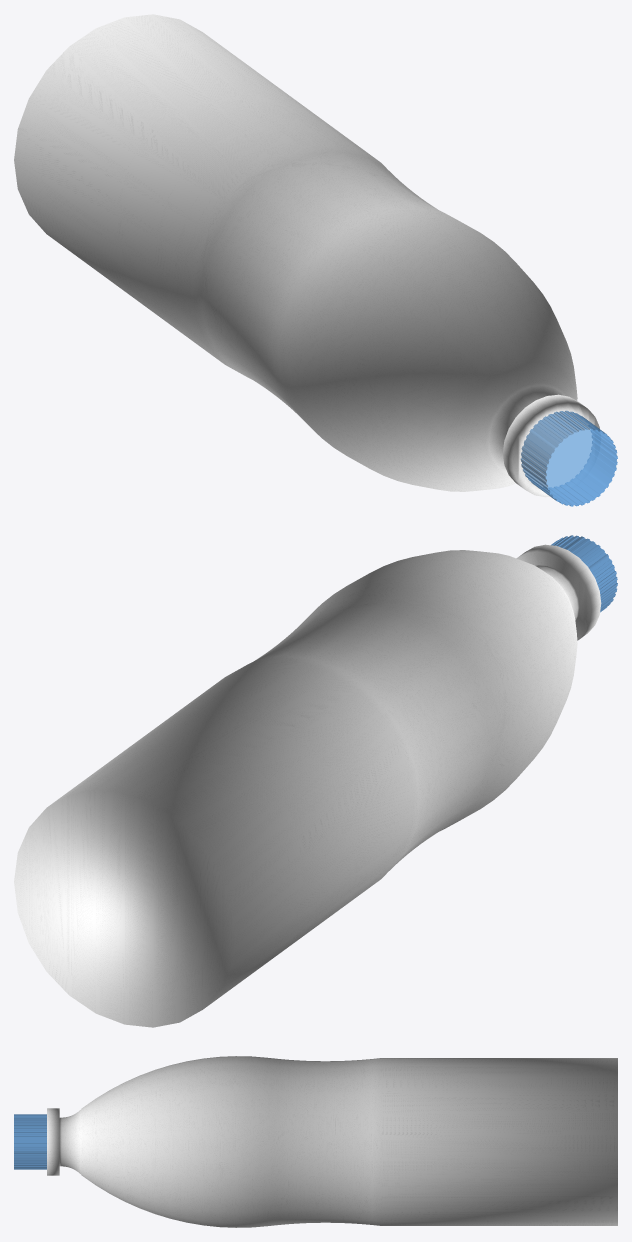
Rendered from model_align.obj.
The picture shows the model from 3 angles, top to bottom: view 1: azimuth 30°, elevation 25°; view 2: azimuth 150°, elevation 25°; view 3: azimuth 270°, elevation 25°; orthographic projection. The views are drawn at different scales.
Visible parts, largest first — view 1: mesh1_mesh1-geometry; view 2: mesh1_mesh1-geometry; view 3: mesh1_mesh1-geometry.
Part boxes in pixels (box(x1,y1,x2,y2)): mesh1_mesh1-geometry: box(14, 14, 617, 506); mesh1_mesh1-geometry: box(14, 535, 617, 1027); mesh1_mesh1-geometry: box(14, 1056, 617, 1227).
Size of the model in its own units: 0.0402 by 0.0402 by 0.1409.
